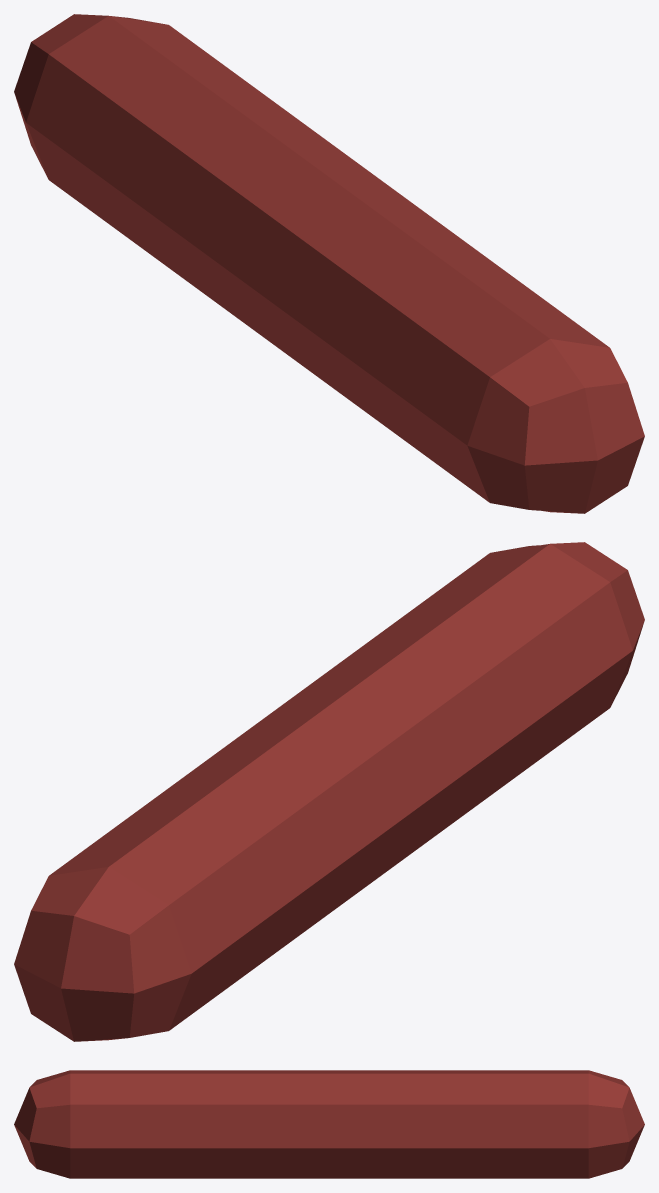
The model's file is Sausage.fbx.
The picture shows the model from 3 angles, top to bottom: view 1: azimuth 30°, elevation 25°; view 2: azimuth 150°, elevation 25°; view 3: azimuth 270°, elevation 25°; orthographic projection. The views are drawn at different scales.
Visible parts, largest first — view 1: HotDog; view 2: HotDog; view 3: HotDog.
Part boxes in pixels (bbox=[...]): HotDog: bbox=[14, 14, 644, 513]; HotDog: bbox=[14, 542, 644, 1041]; HotDog: bbox=[14, 1070, 644, 1178].
Bounding box in the file's own units: 3.06 × 3.06 × 17.17.
